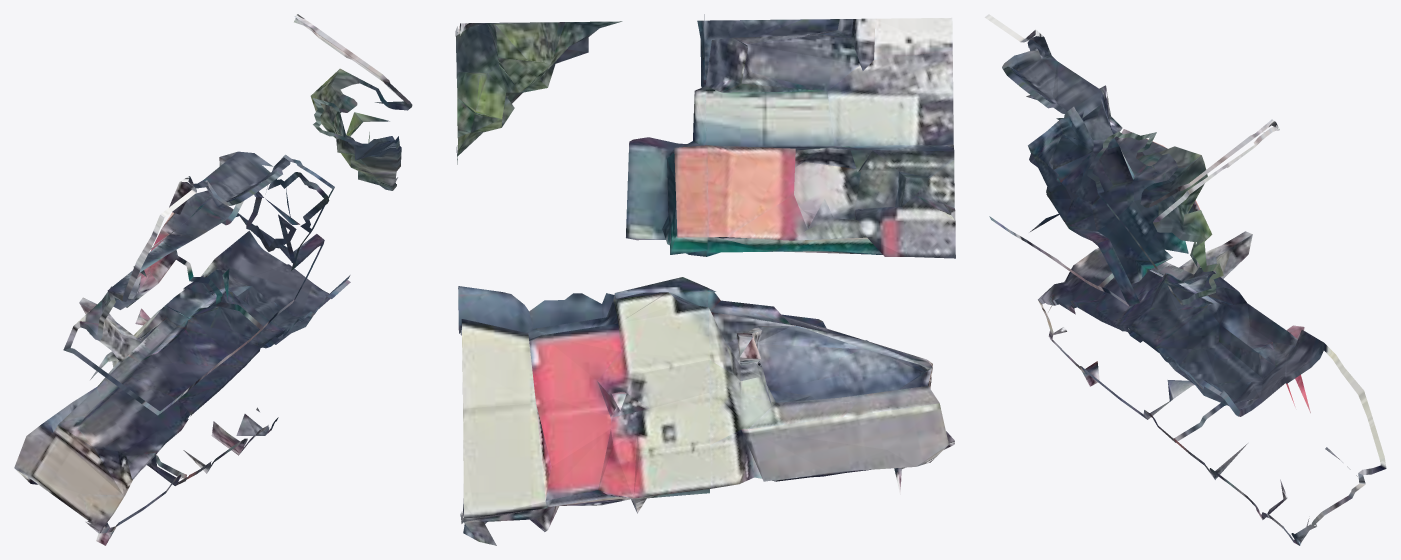
3 renders of one model, left to right at view 1: azimuth 30°, elevation 25°; view 2: azimuth 150°, elevation 25°; view 3: azimuth 270°, elevation 25°, orthographic. The views are drawn at different scales.
Bounding box in the file's own units: 39.38 × 38.64 × 32.41.
Materials: 2 (2 with a texture image).
